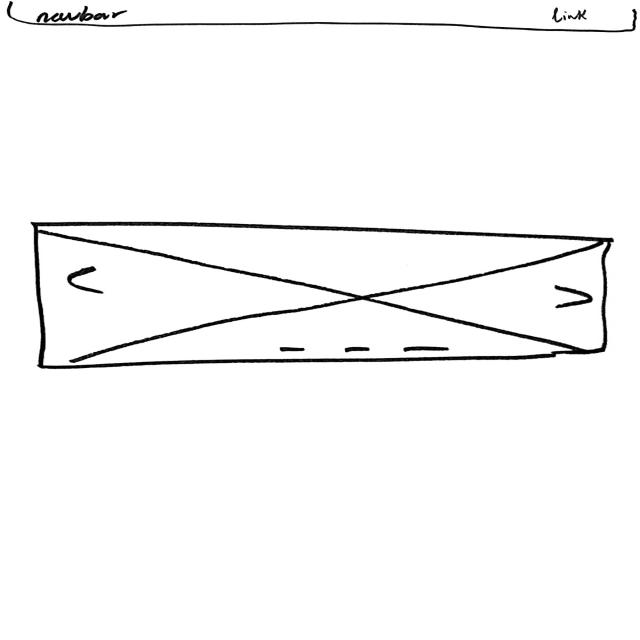container: (10, 1, 639, 34)
image: (29, 219, 613, 371)
label: (35, 6, 131, 23), (551, 8, 589, 24)
